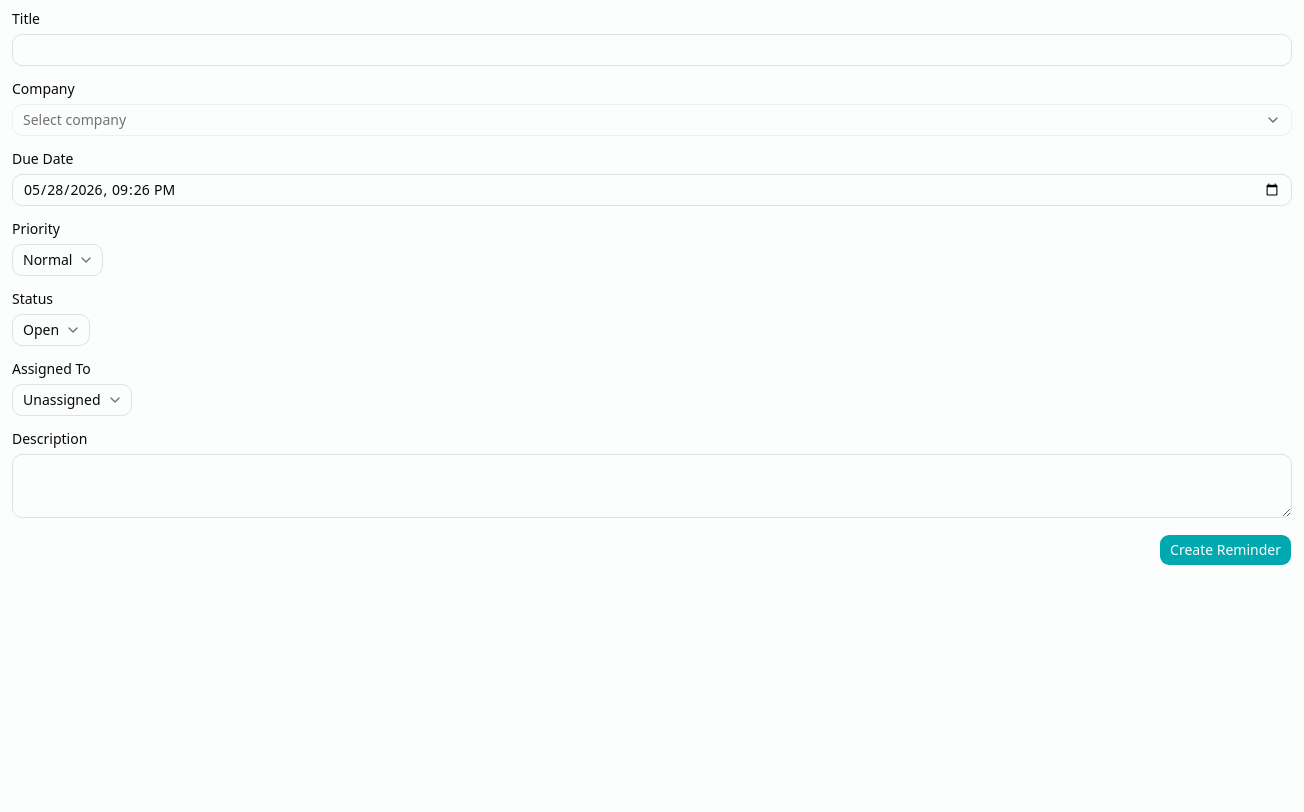
Test: ReminderEditForm + reminderSchema › blocks submit when company is missing
The width and height of the screenshot is (1304, 812).
expect the button "Select company" is shown: met, box [12,104,1292,136]
Type "Needs a company" into the field labelled "Title" at point(652, 50), box [12,34,1292,66]
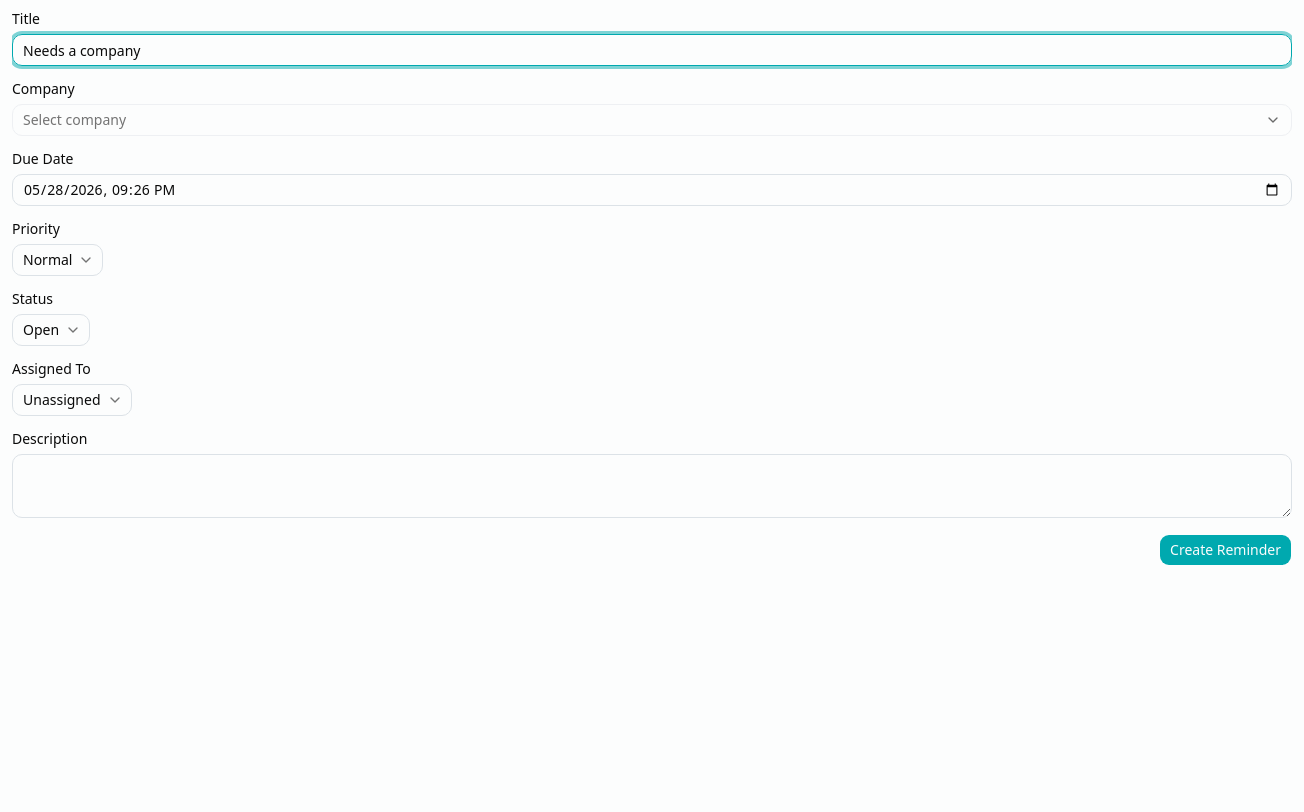
Click the button "Create Reminder" at point(1226, 550), box [1159,534,1292,566]
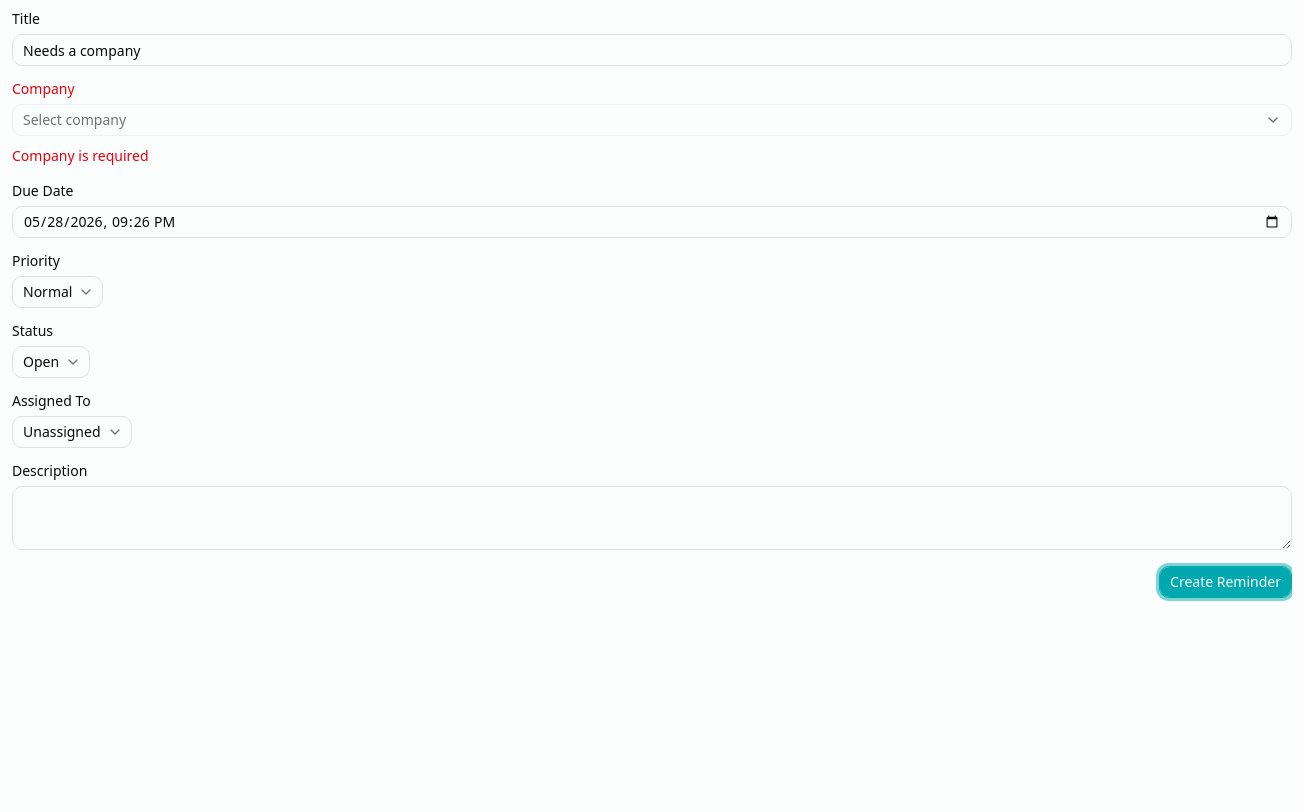
expect the text "Company is required" is shown: met, box [12,146,148,165]
